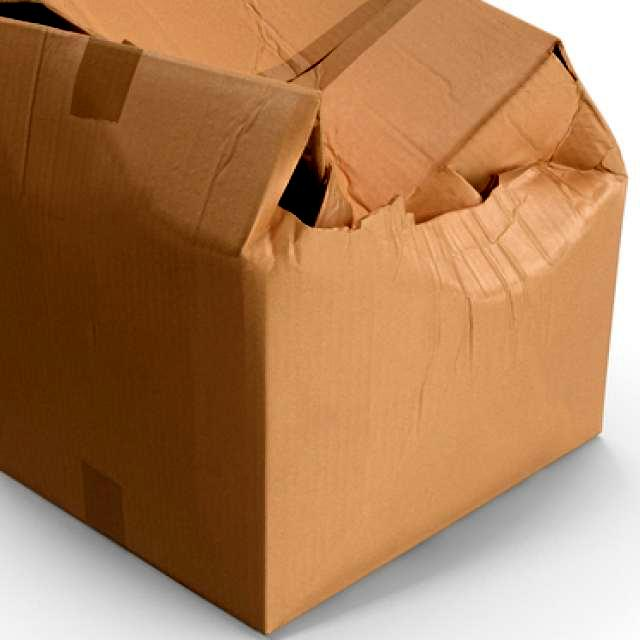deform: (0, 0, 626, 631), (308, 0, 604, 227)
